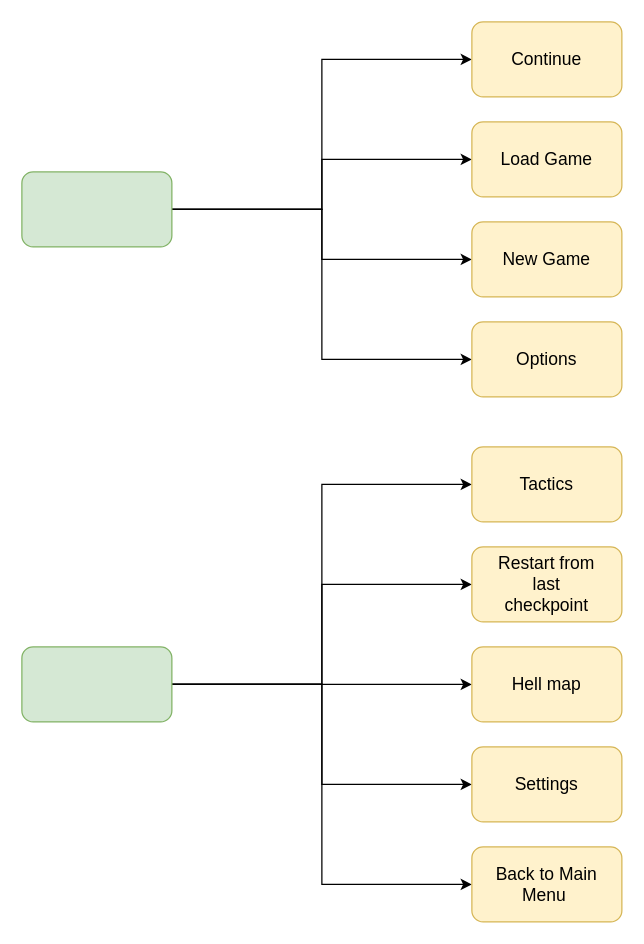
Some shapes in this 644 by 944 pixel diagram are drawn without their labels. The shapes that lost their labels are listed below. From the top down, each one's centre as x and y in pixels, then its label:
the point at 96,209: MAIN MENU
the point at 96,684: PAUSE MENU
